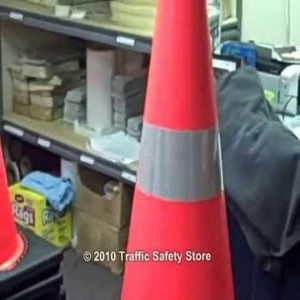traffic cone: (120, 1, 235, 300)
